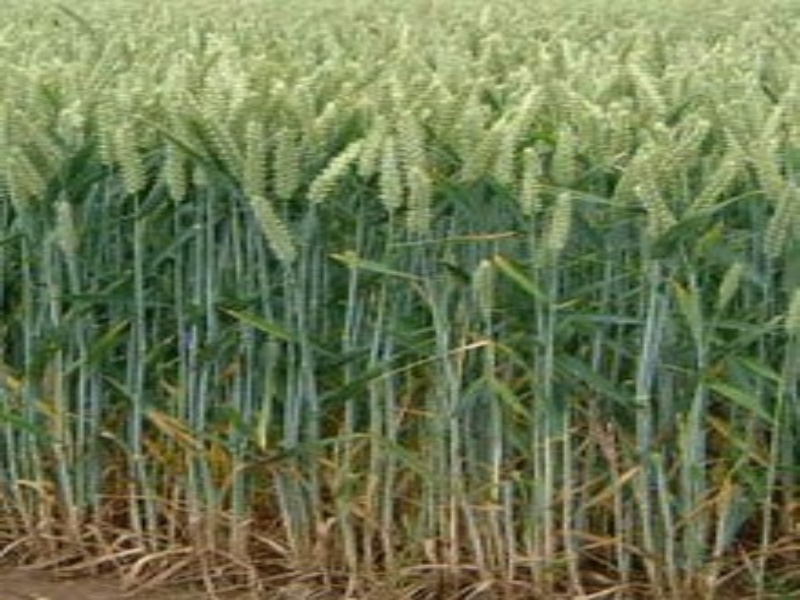wheat: (564, 91, 797, 292), (230, 105, 355, 273), (480, 85, 583, 278), (98, 105, 202, 225), (356, 105, 437, 241), (1, 136, 54, 220), (464, 251, 513, 327), (46, 195, 83, 268)
